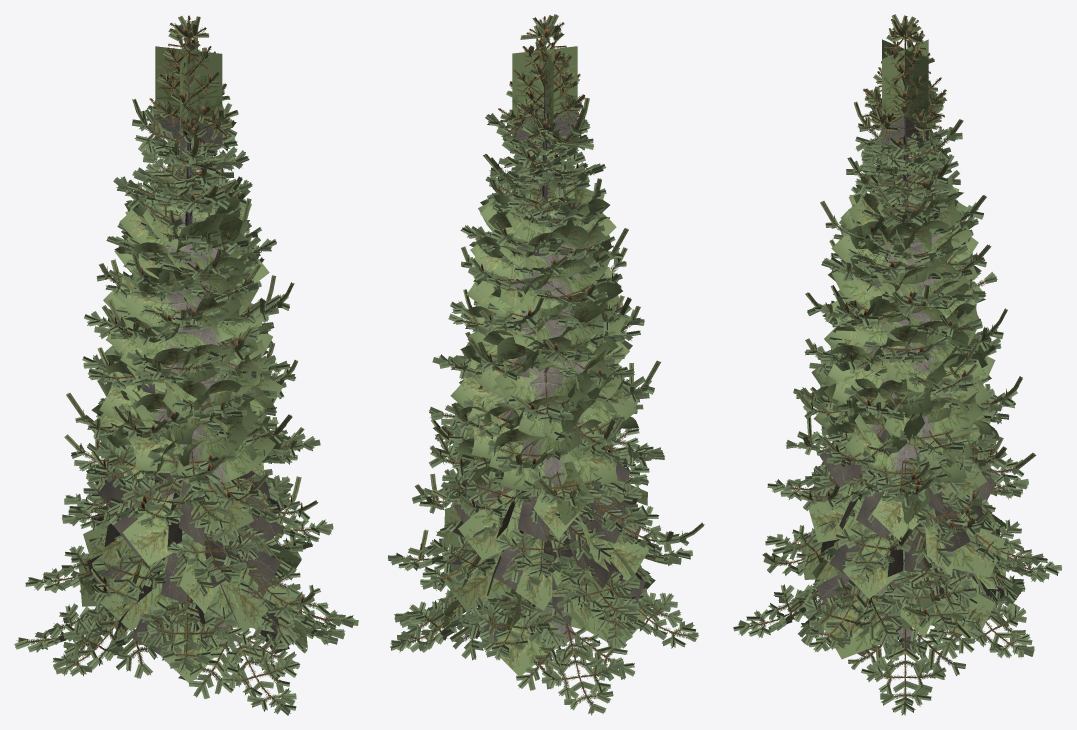
Rendered from White Fir (Mature) (HD).fbx.
3 views of the same model, side by side, from view 1: azimuth 30°, elevation 25°; view 2: azimuth 150°, elevation 25°; view 3: azimuth 270°, elevation 25° (orthographic). The views are drawn at different scales.
Visible parts, largest first — view 1: White_Fir__Mature___HD__Trunk Bottom; view 2: White_Fir__Mature___HD__Trunk Bottom; view 3: White_Fir__Mature___HD__Trunk Bottom.
Boxes of the visible parts, bbox=[...] form: White_Fir__Mature___HD__Trunk Bottom: bbox=[14, 15, 358, 715]; White_Fir__Mature___HD__Trunk Bottom: bbox=[387, 14, 704, 715]; White_Fir__Mature___HD__Trunk Bottom: bbox=[733, 14, 1061, 715].
Bounding box in the file's own units: 13.99 × 29.54 × 13.92.
